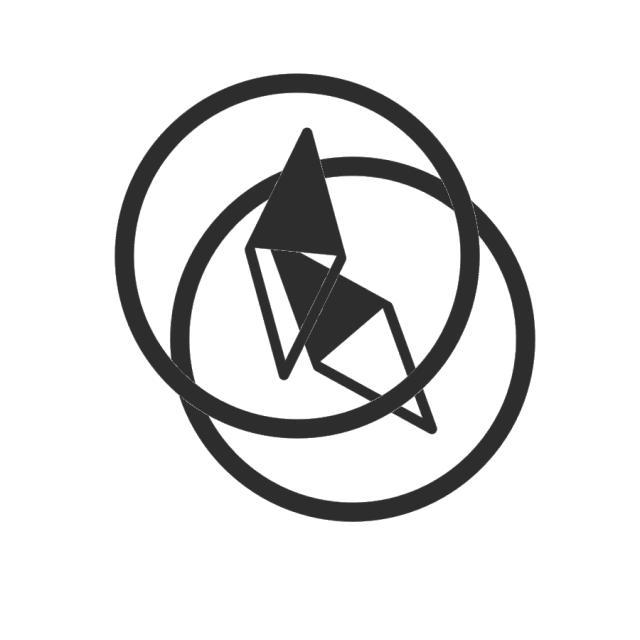compass: (165, 148, 550, 536), (108, 68, 488, 443)
